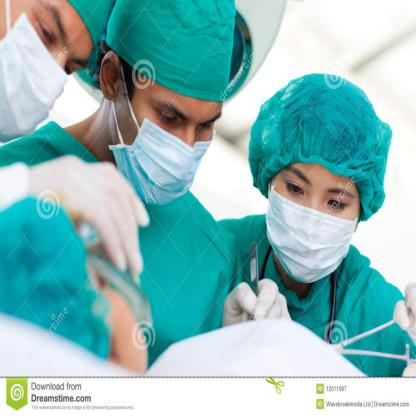face: (124, 54, 223, 204), (269, 149, 363, 280), (4, 2, 91, 140)
